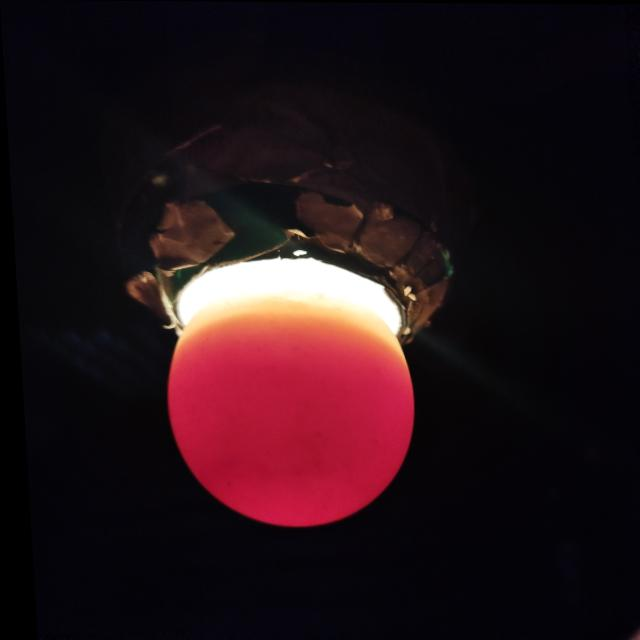Gema Quebrada: (161, 334, 409, 526)
